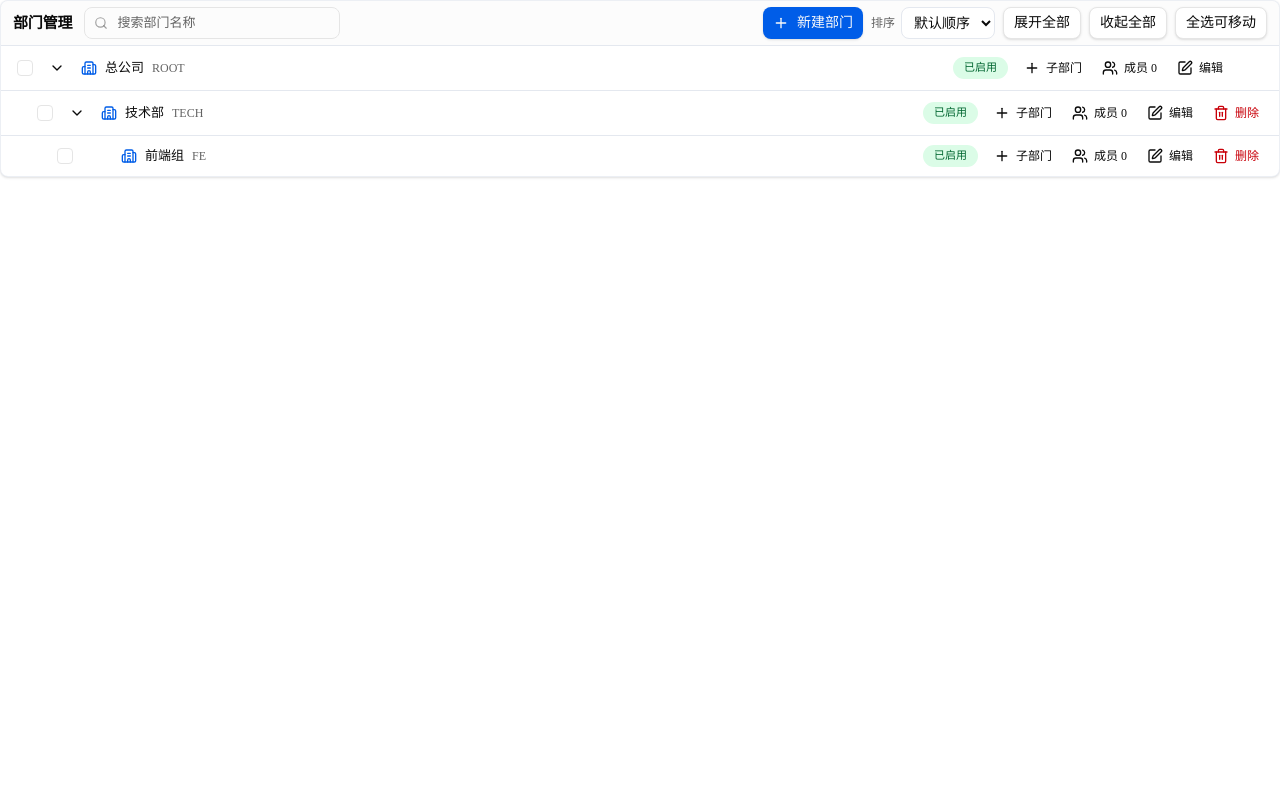
U-G03 对话框 Label 关联 › departments 新建/编辑对话框：getByLabelText 可定位名称/编码
Click the button "新建部门".
click(813, 23)  # box [763,7,863,39]
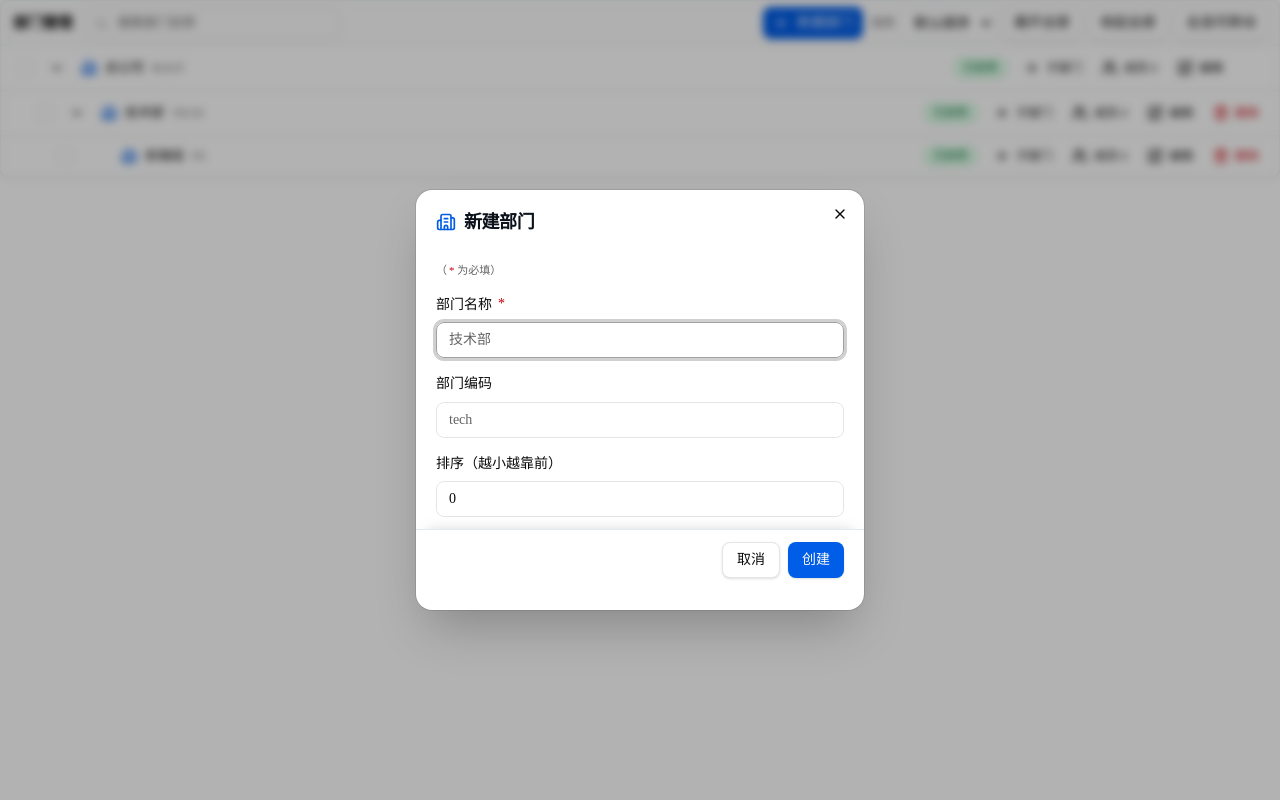
Check: the field labelled "部门名称" is shown, box [436,322,844,358]
Check: the field labelled "部门编码" is shown, box [436,402,844,438]
Click the button "取消".
click(751, 560)  # box [722,542,780,578]
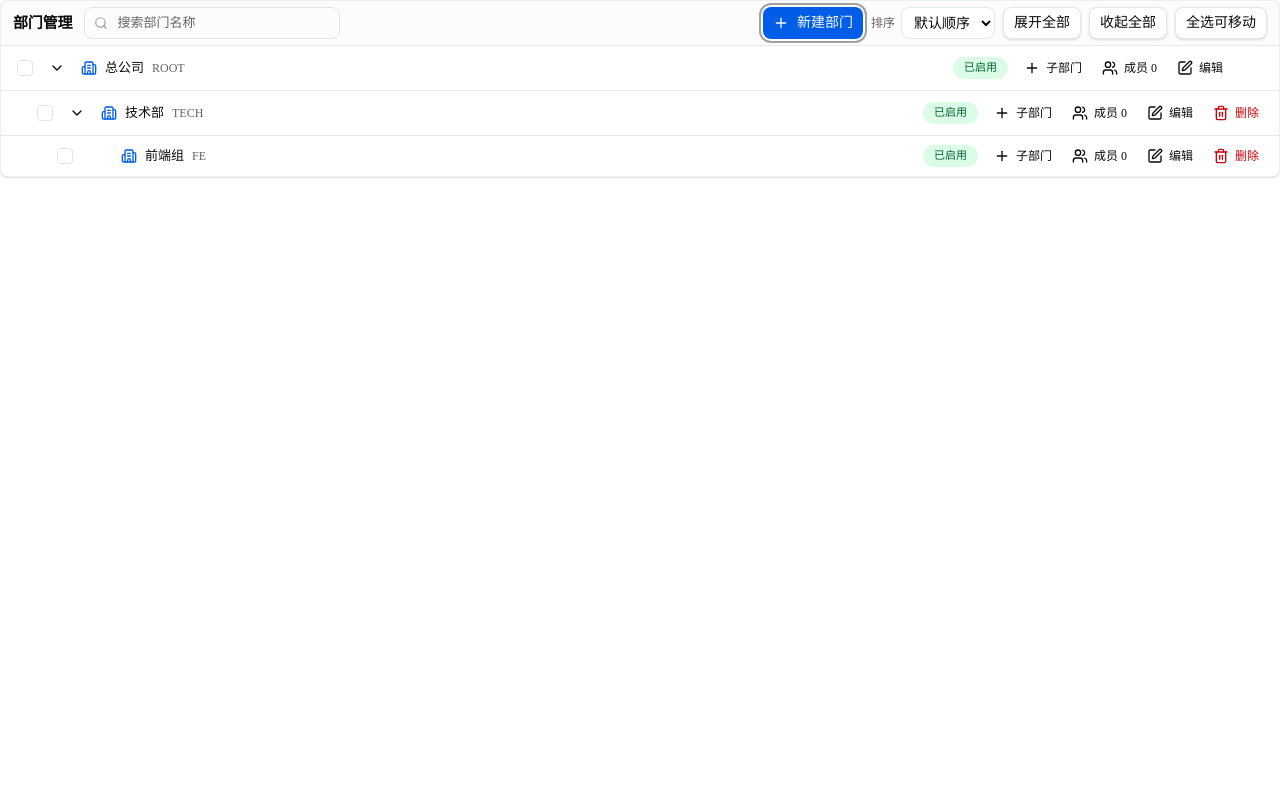
Click the button with aria-label "编辑部门 技术部".
click(1170, 113)  # box [1139,99,1201,127]
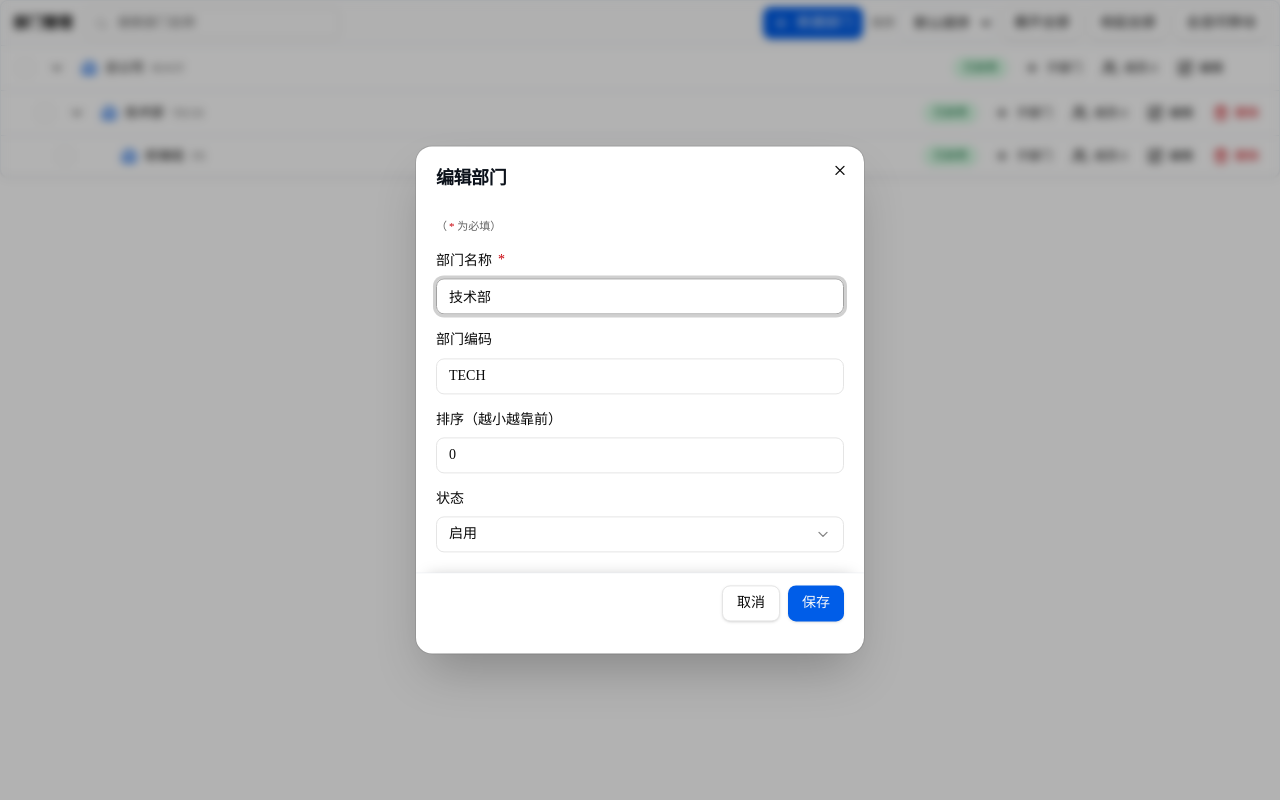
Check: the field labelled "部门名称" is shown, box [436,279,844,315]
Check: the field labelled "部门编码" is shown, box [436,358,844,394]
